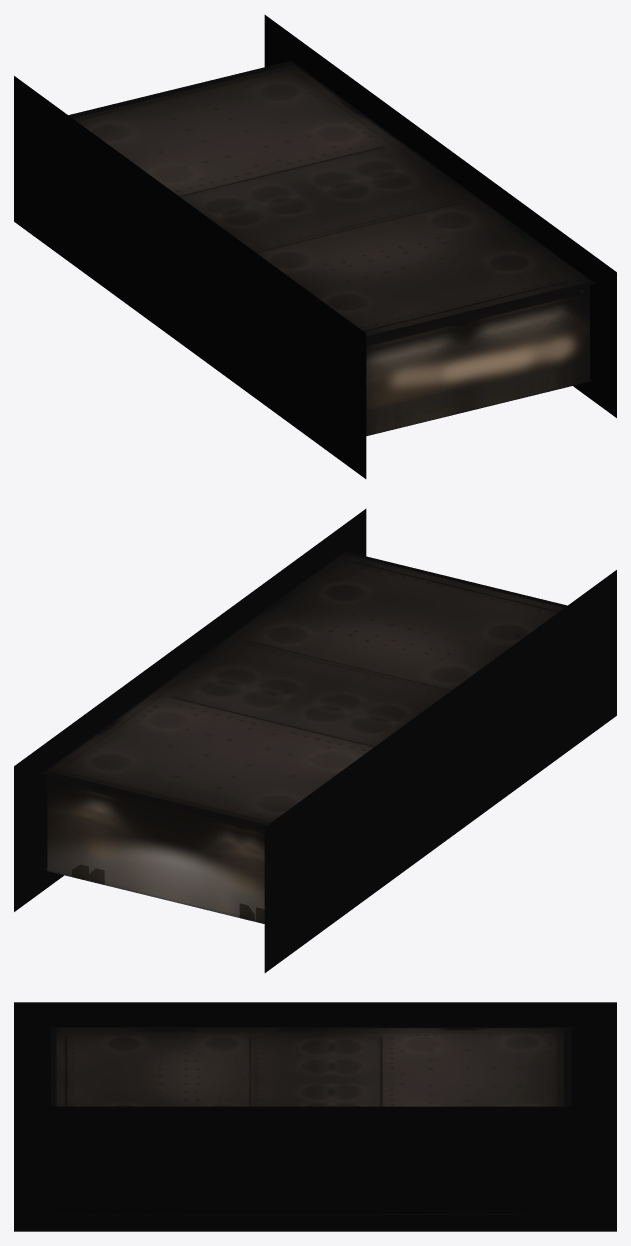
File: shoe store.glb
The picture shows the model from 3 angles, top to bottom: view 1: azimuth 30°, elevation 25°; view 2: azimuth 150°, elevation 25°; view 3: azimuth 270°, elevation 25°; orthographic projection. The views are drawn at different scales.
Parts seen in each view (by area): view 1: pPlane3, Cube.001, polySurface7; view 2: pPlane3, Cube.001, polySurface7; view 3: Cube.001, pPlane3, floor.
Boxes of the visible parts, <box> form: pPlane3: <box>68,61,594,339</box>; Cube.001: <box>14,15,616,478</box>; polySurface7: <box>366,285,589,436</box>; pPlane3: <box>41,551,567,828</box>; Cube.001: <box>14,509,616,972</box>; polySurface7: <box>47,775,264,923</box>; Cube.001: <box>14,1002,616,1231</box>; pPlane3: <box>51,1027,571,1106</box>; floor: <box>56,1214,563,1215</box>.
Size of the model in its own units: 0.664 by 0.3679 by 1.61.
Materials: 9 (7 with a texture image).
